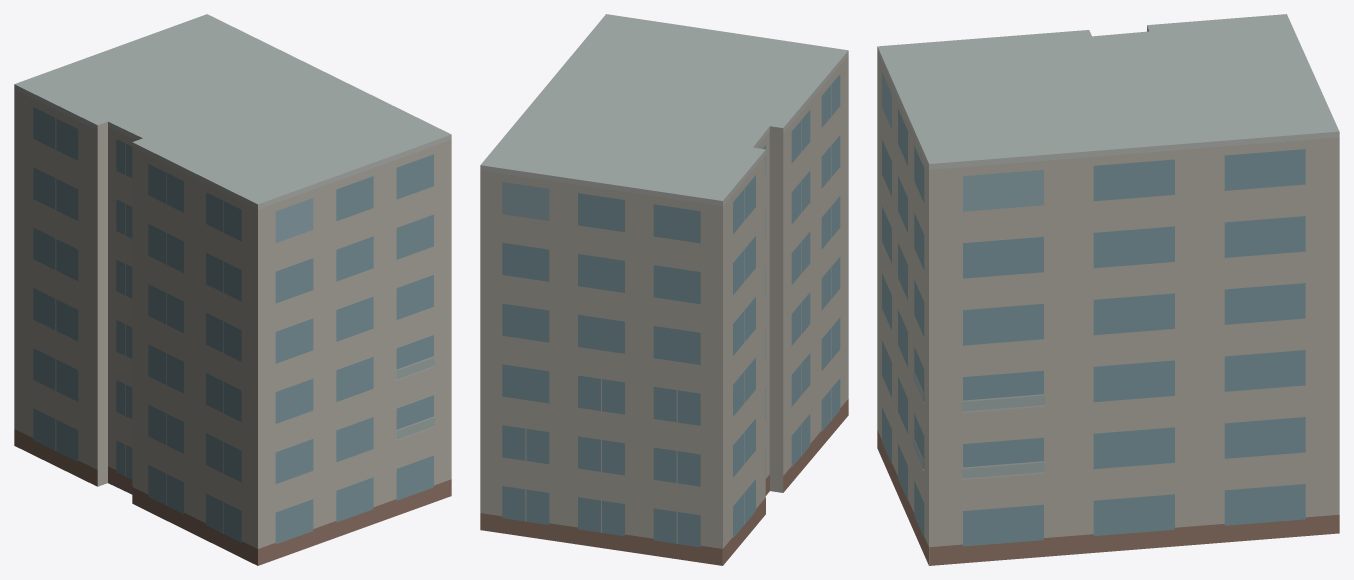
File: survey-upis-32908055.glb
The picture shows the model from 3 angles, left to right: view 1: azimuth 30°, elevation 25°; view 2: azimuth 150°, elevation 25°; view 3: azimuth 270°, elevation 25°; orthographic projection. The views are drawn at different scales.
Parts seen in each view (by area): view 1: survey-upis-32908055.tmp; view 2: survey-upis-32908055.tmp; view 3: survey-upis-32908055.tmp.
Part boxes in pixels (x1=…): survey-upis-32908055.tmp: x1=14, y1=14, x2=451, y2=565; survey-upis-32908055.tmp: x1=480, y1=14, x2=848, y2=565; survey-upis-32908055.tmp: x1=877, y1=14, x2=1339, y2=565.
Bounding box in the file's own units: 13.62 × 17 × 17.73.
